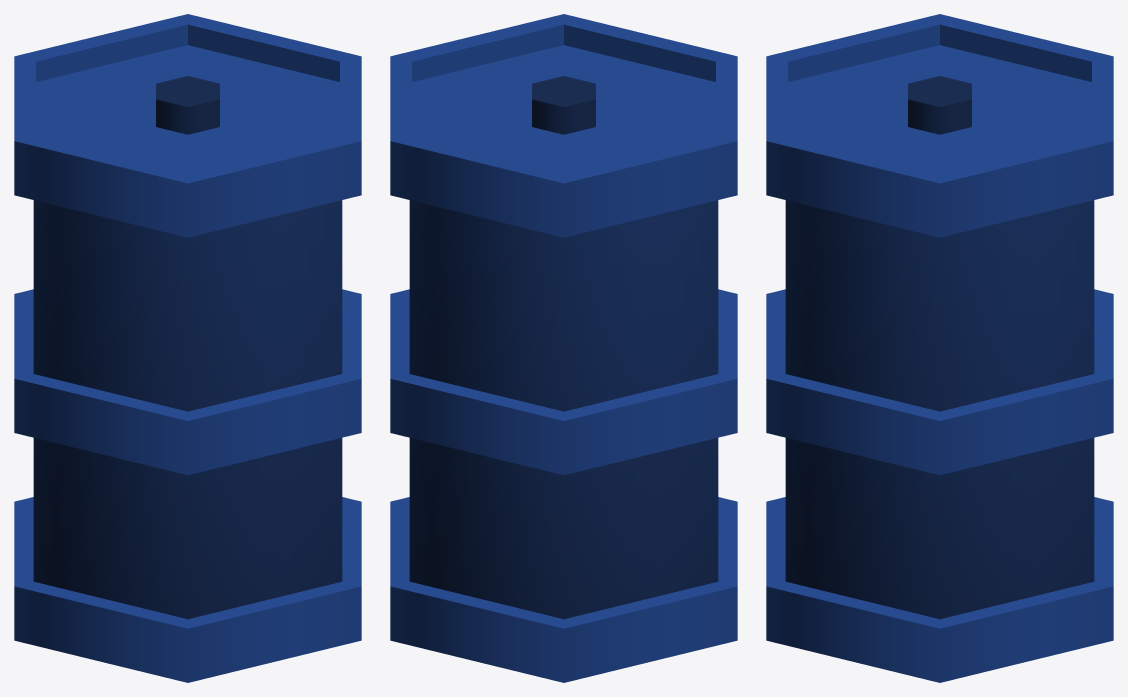
File: BlueBarrel.FBX
3 views of the same model, side by side, from view 1: azimuth 30°, elevation 25°; view 2: azimuth 150°, elevation 25°; view 3: azimuth 270°, elevation 25° (orthographic).
Visible parts, largest first — view 1: BarrelBlue002; view 2: BarrelBlue002; view 3: BarrelBlue002.
Part boxes in pixels (bbox=[...]): BarrelBlue002: bbox=[14, 14, 361, 682]; BarrelBlue002: bbox=[390, 14, 737, 682]; BarrelBlue002: bbox=[766, 14, 1113, 682].
Bounding box in the file's own units: 5.91 × 8.24 × 5.12.
